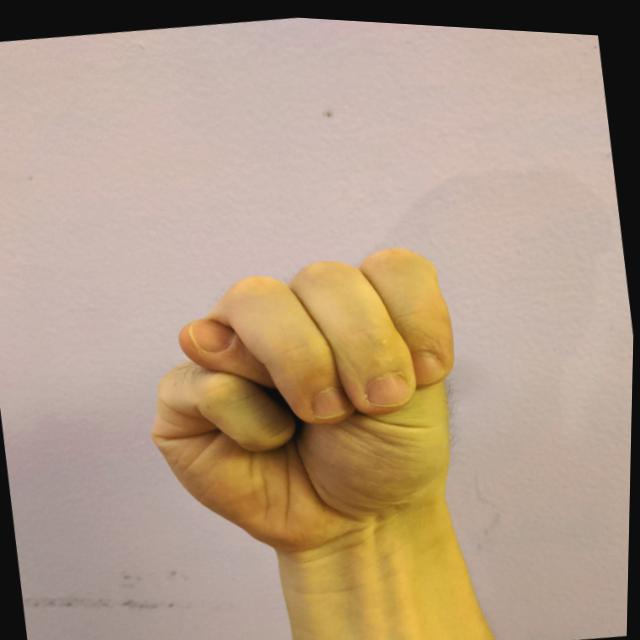M: (116, 215, 497, 580)
